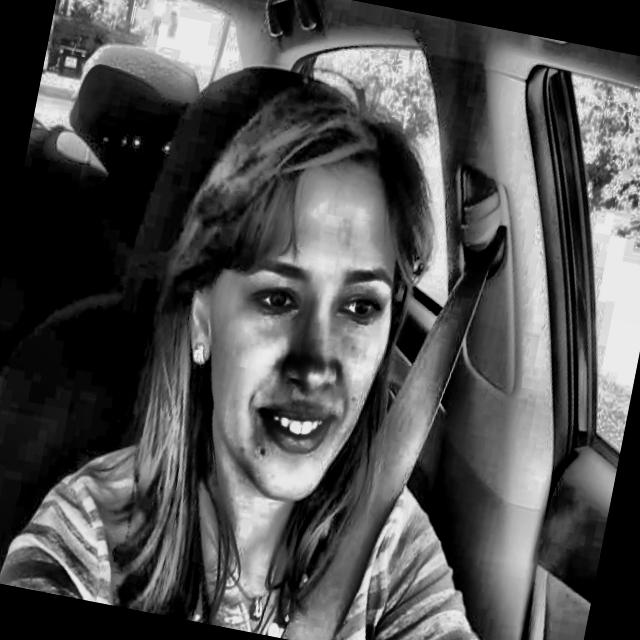closed_mouth: (235, 393, 354, 474)
open_eyes: (240, 278, 316, 332), (329, 281, 389, 336)
